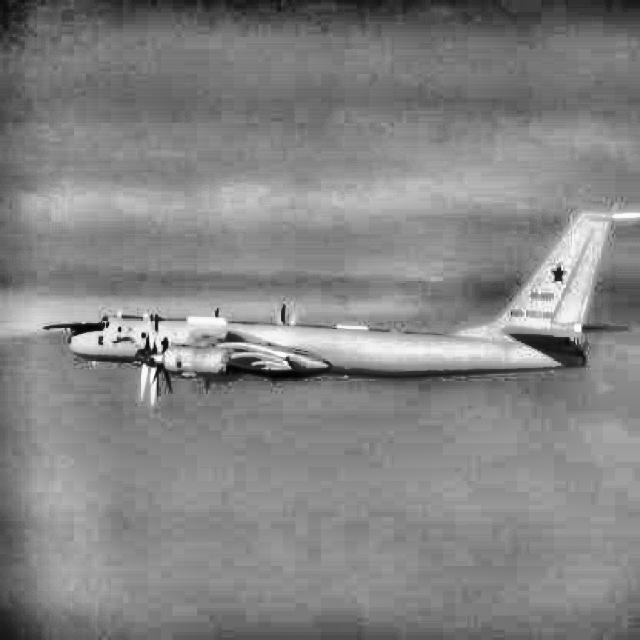Tu95: (43, 203, 640, 408)
